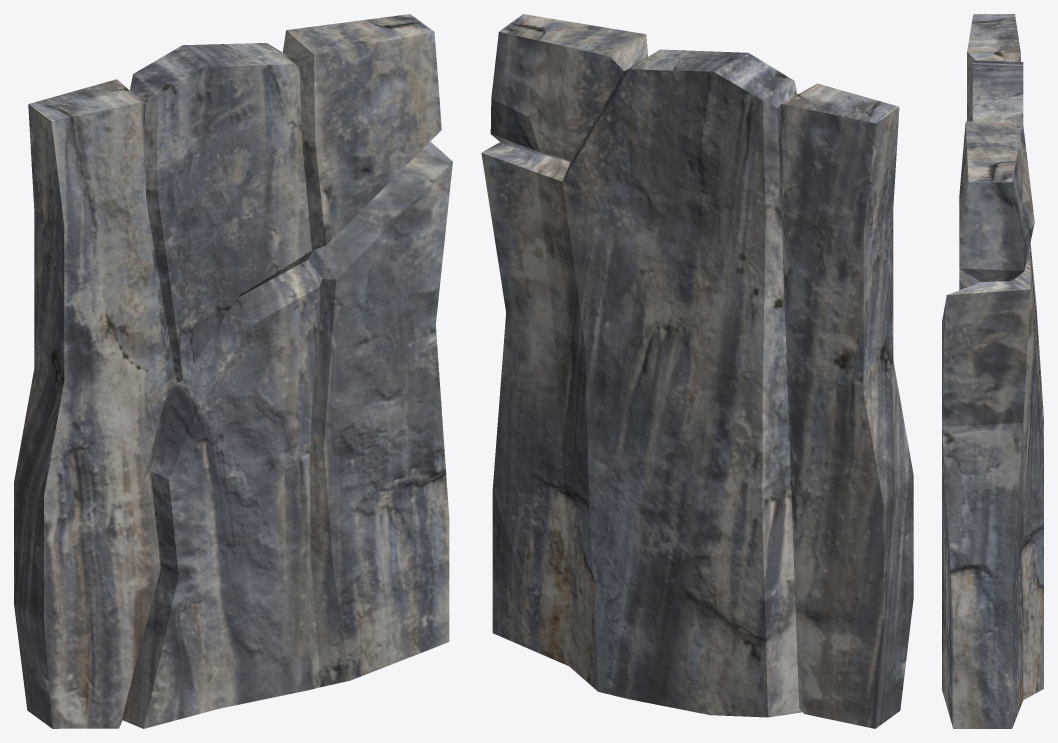
Rendered from RockWall_2.fbx.
3 views of the same model, side by side, from view 1: azimuth 30°, elevation 25°; view 2: azimuth 150°, elevation 25°; view 3: azimuth 270°, elevation 25° (orthographic). The views are drawn at different scales.
Visible parts, largest first — view 1: pCube11; view 2: pCube11; view 3: pCube11.
Part boxes in pixels (x1,y1,x2,y2): pCube11: [14, 14, 452, 728]; pCube11: [481, 14, 913, 728]; pCube11: [942, 14, 1043, 728].
Size of the model in its own units: 9.43 by 14.46 by 2.32.
